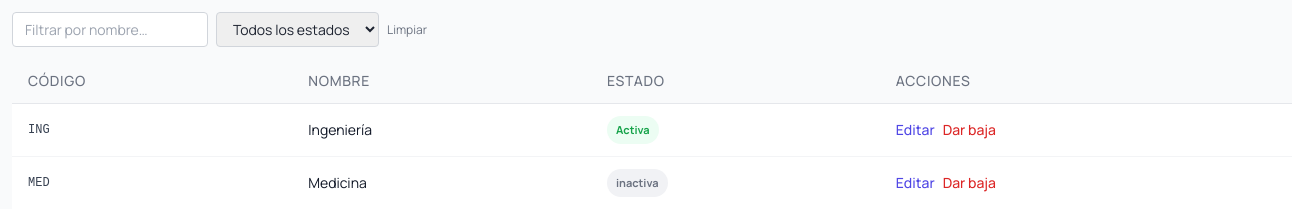
Test: CarrerasTable › filters by nombre substring
Type "Inge" into the field with placeholder "Filtrar por nombre…" at (110, 30), box [12, 12, 208, 47]
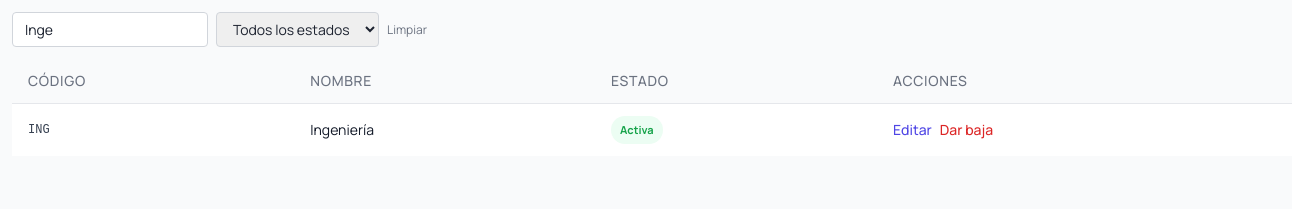
Expected: the text "Ingeniería" is shown, [294, 104, 595, 156]
Result: the text "Medicina" is gone
